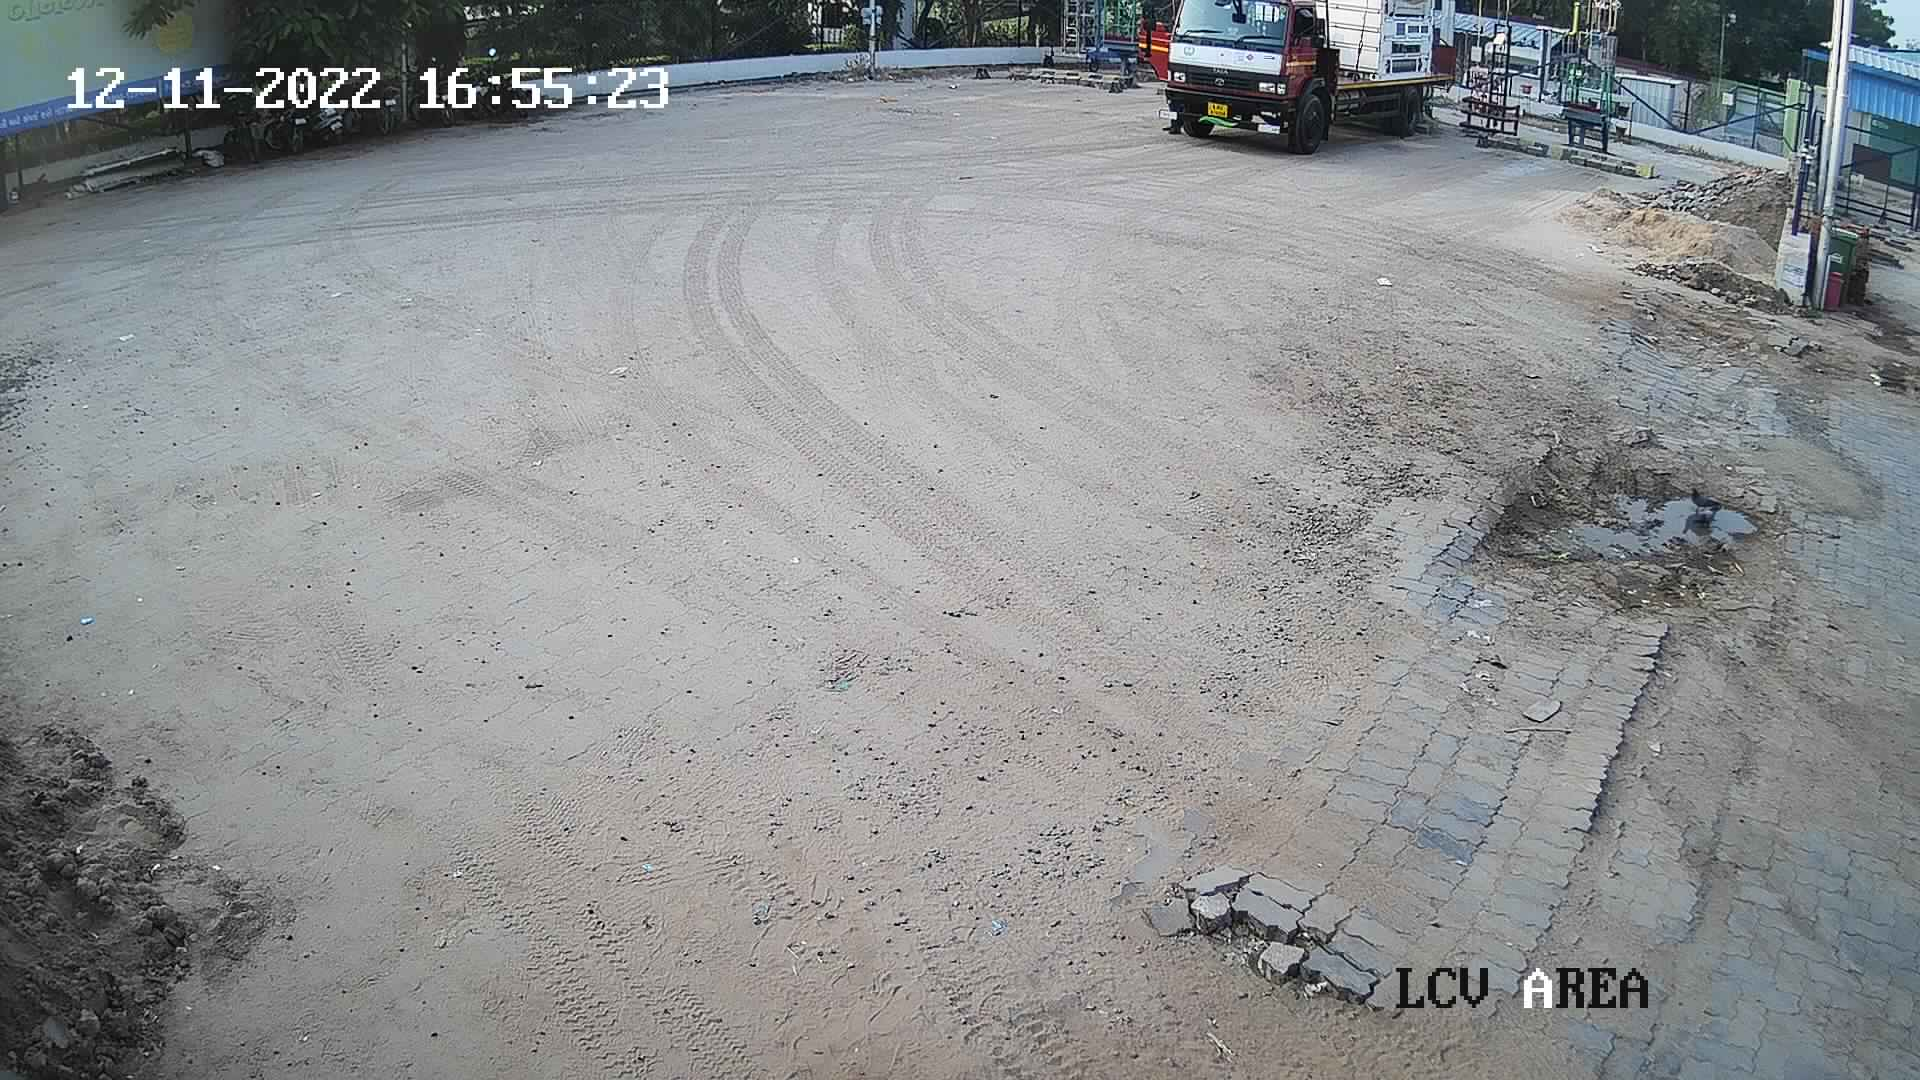HMV: (1126, 0, 1489, 158)
